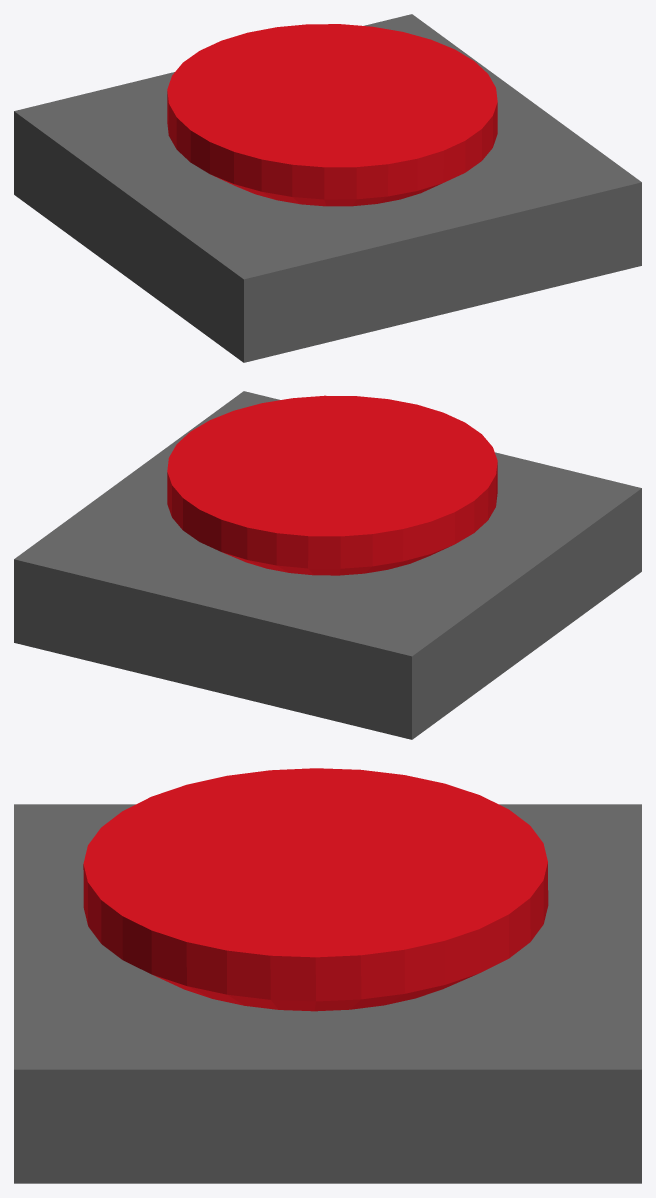
File: Button.fbx
3 views of the same model, one above another, from view 1: azimuth 30°, elevation 25°; view 2: azimuth 150°, elevation 25°; view 3: azimuth 270°, elevation 25° (orthographic). The views are drawn at different scales.
Parts seen in each view (by area): view 1: Cube, Cone; view 2: Cube, Cone; view 3: Cube, Cone.
Boxes of the visible parts, x1,y1,x2,y2 form: Cube: (14, 14, 641, 362); Cone: (167, 24, 497, 206); Cube: (14, 391, 641, 739); Cone: (167, 395, 497, 575); Cube: (14, 804, 641, 1183); Cone: (83, 768, 548, 1011).
Size of the model in its own units: 54.79 by 18.23 by 54.79.
